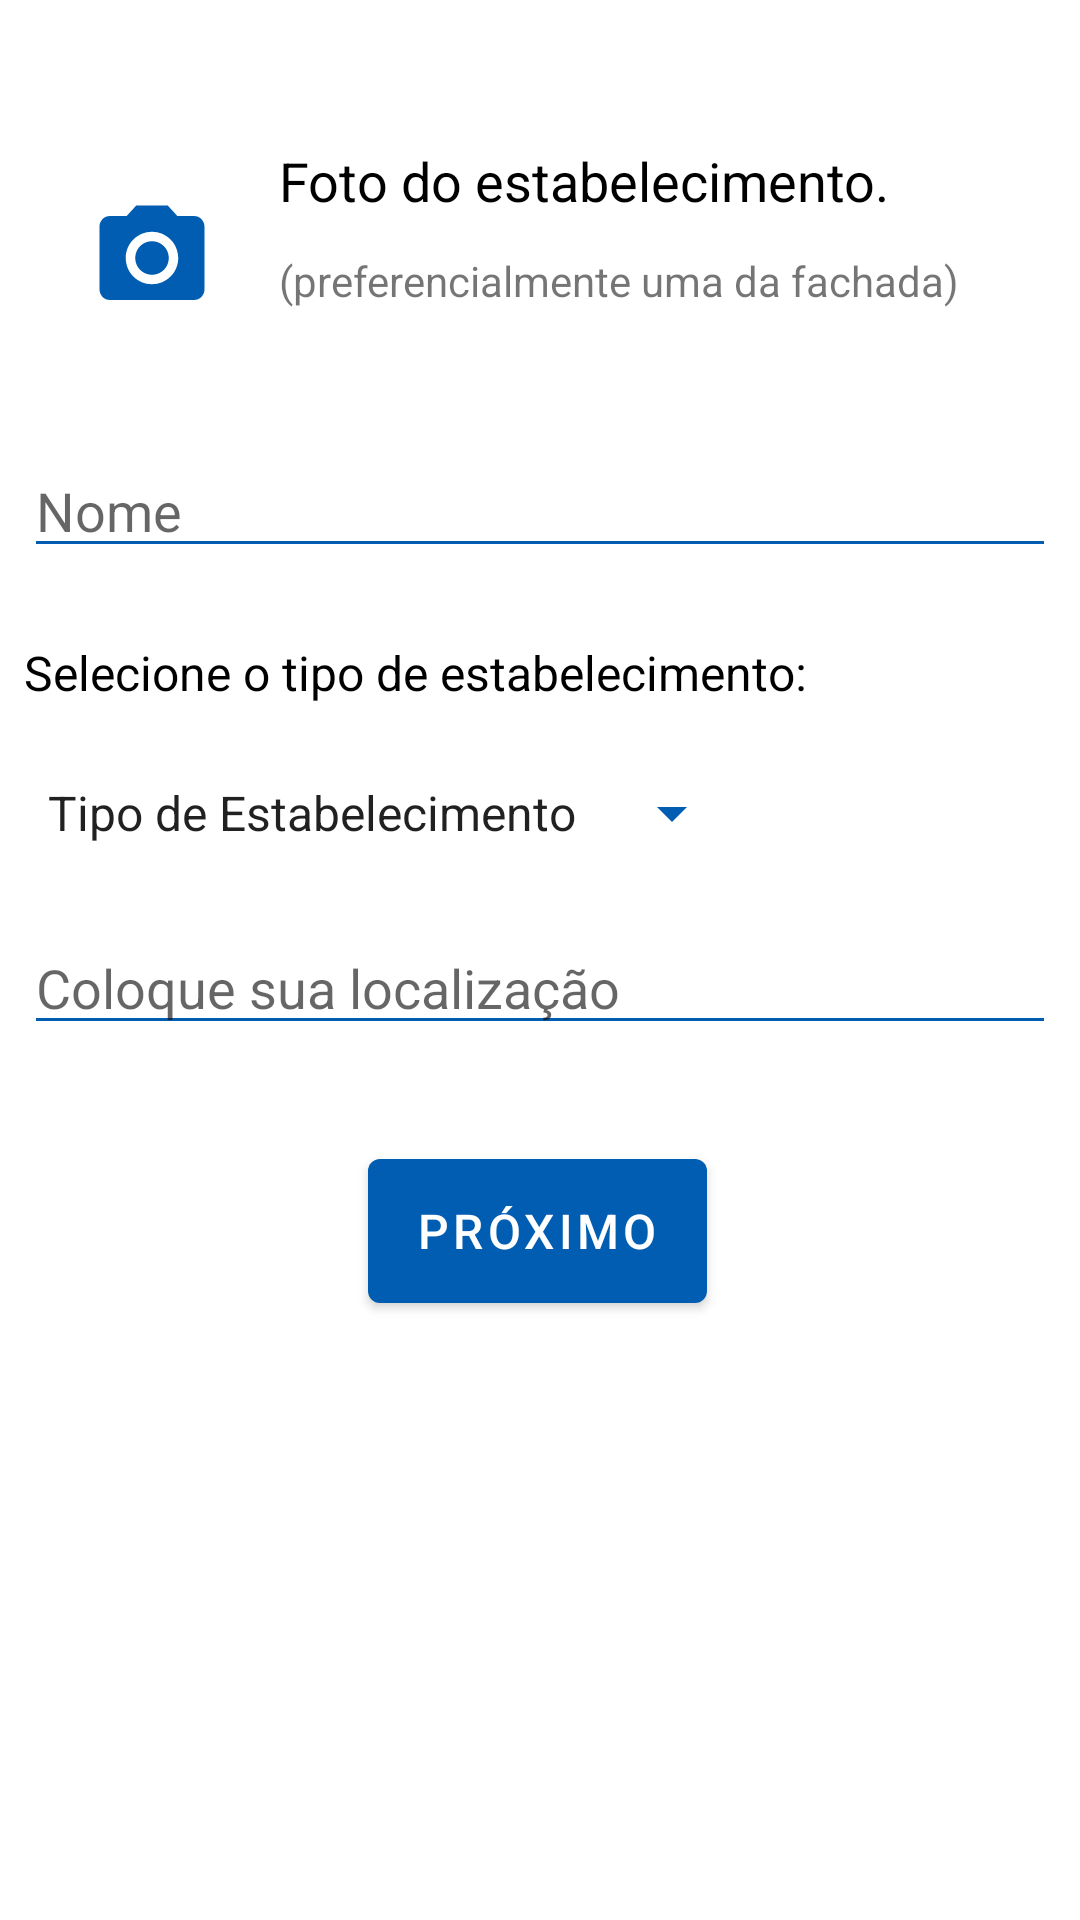

Screen size 1080px×1920px. Icon name, then its center in pixels as point (x, y):
photo camera: point (152, 252)
